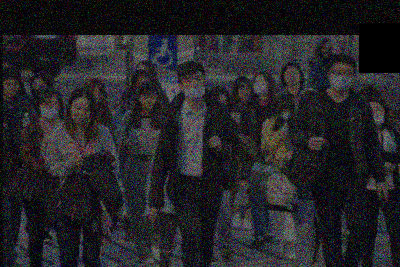mask_weared_incorrect: (183, 75, 205, 102), (38, 98, 61, 123), (368, 105, 387, 126)
with_mask: (329, 68, 354, 94), (251, 78, 270, 98), (29, 82, 49, 100), (280, 108, 293, 122)
without_mask: (70, 103, 92, 126), (3, 80, 21, 99), (283, 68, 302, 86), (235, 85, 252, 102), (139, 93, 157, 109), (89, 90, 104, 106)
